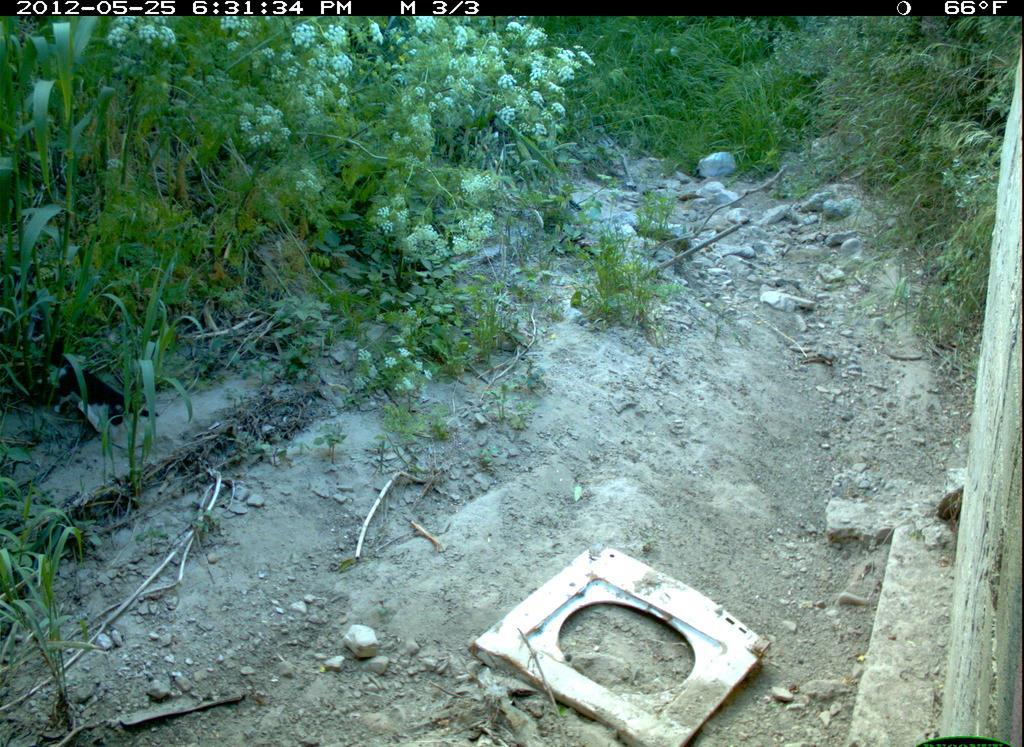cat: (40, 334, 161, 444)
